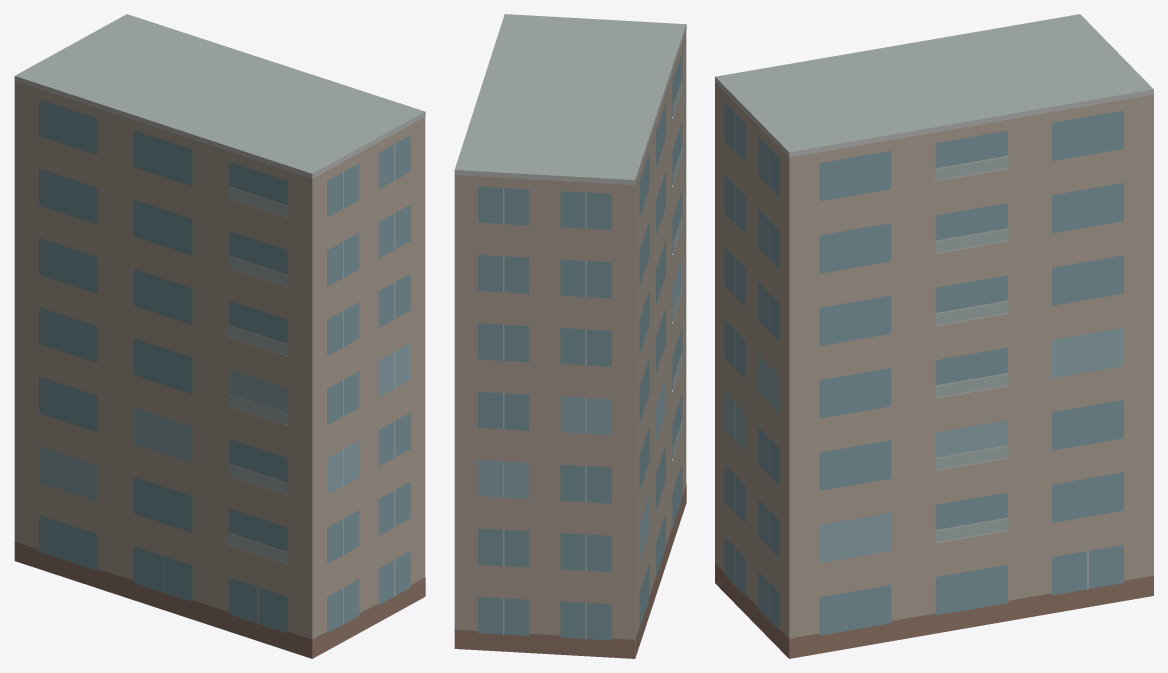
The model's file is survey-upis-32842207.glb.
3 renders of one model, left to right at view 1: azimuth 30°, elevation 25°; view 2: azimuth 150°, elevation 25°; view 3: azimuth 270°, elevation 25°, orthographic. The views are drawn at different scales.
Parts seen in each view (by area): view 1: survey-upis-32842207.tmp; view 2: survey-upis-32842207.tmp; view 3: survey-upis-32842207.tmp.
Boxes of the visible parts, x1,y1,x2,y2 form: survey-upis-32842207.tmp: [14, 14, 425, 658]; survey-upis-32842207.tmp: [454, 14, 686, 658]; survey-upis-32842207.tmp: [715, 14, 1153, 658].
Bounding box in the file's own units: 13.57 × 23.15 × 18.18.
